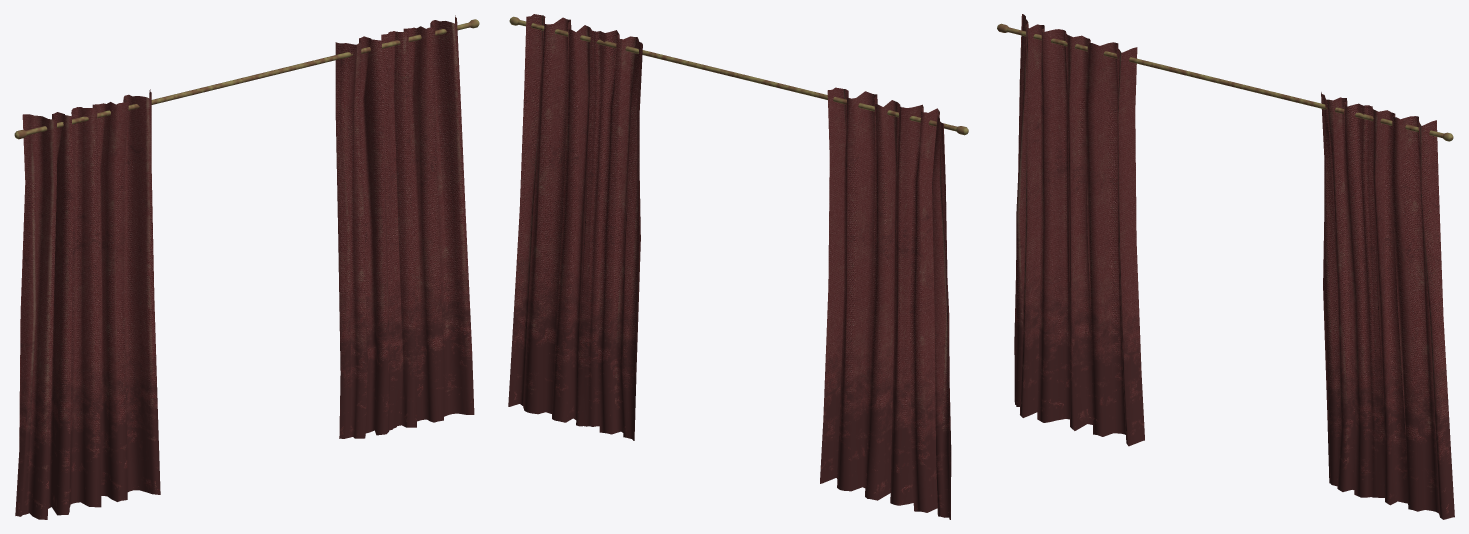
File: curtains.glb
3 views of the same model, side by side, from view 1: azimuth 30°, elevation 25°; view 2: azimuth 150°, elevation 25°; view 3: azimuth 330°, elevation 25° (orthographic).
Visible parts, largest first — view 1: curtains; view 2: curtains; view 3: curtains.
Part boxes in pixels (x1,y1,x2,y2): curtains: [14, 15, 479, 519]; curtains: [508, 14, 968, 519]; curtains: [997, 14, 1454, 519].
Size of the model in its own units: 366 by 302 by 23.23.
Materials: 1 (1 with a texture image).
